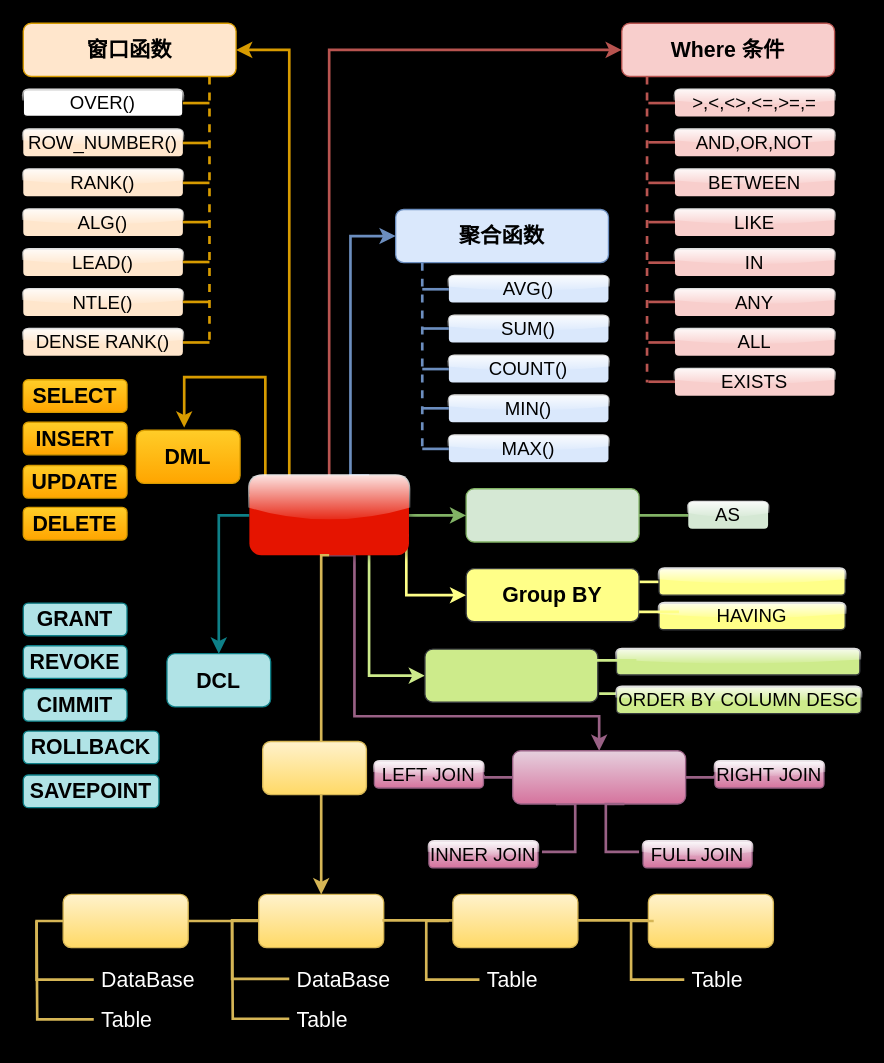
Some shapes in this 884 by 1063 pixel diagram are drawn without their labels. Here are the shapes that lost their labels. From the top down, the centre of each, then its label:
[329,516]: SQL
[552,514]: Alias
[751,581]: GROUP BY COLUMN
[511,675]: ORDER BY
[737,661]: ORDER BY COLUMN ASC
[313,767]: DDL
[598,776]: JOIN
[125,920]: VIEW
[320,920]: DROP
[515,920]: TRUNCATE
[710,920]: ALTER
